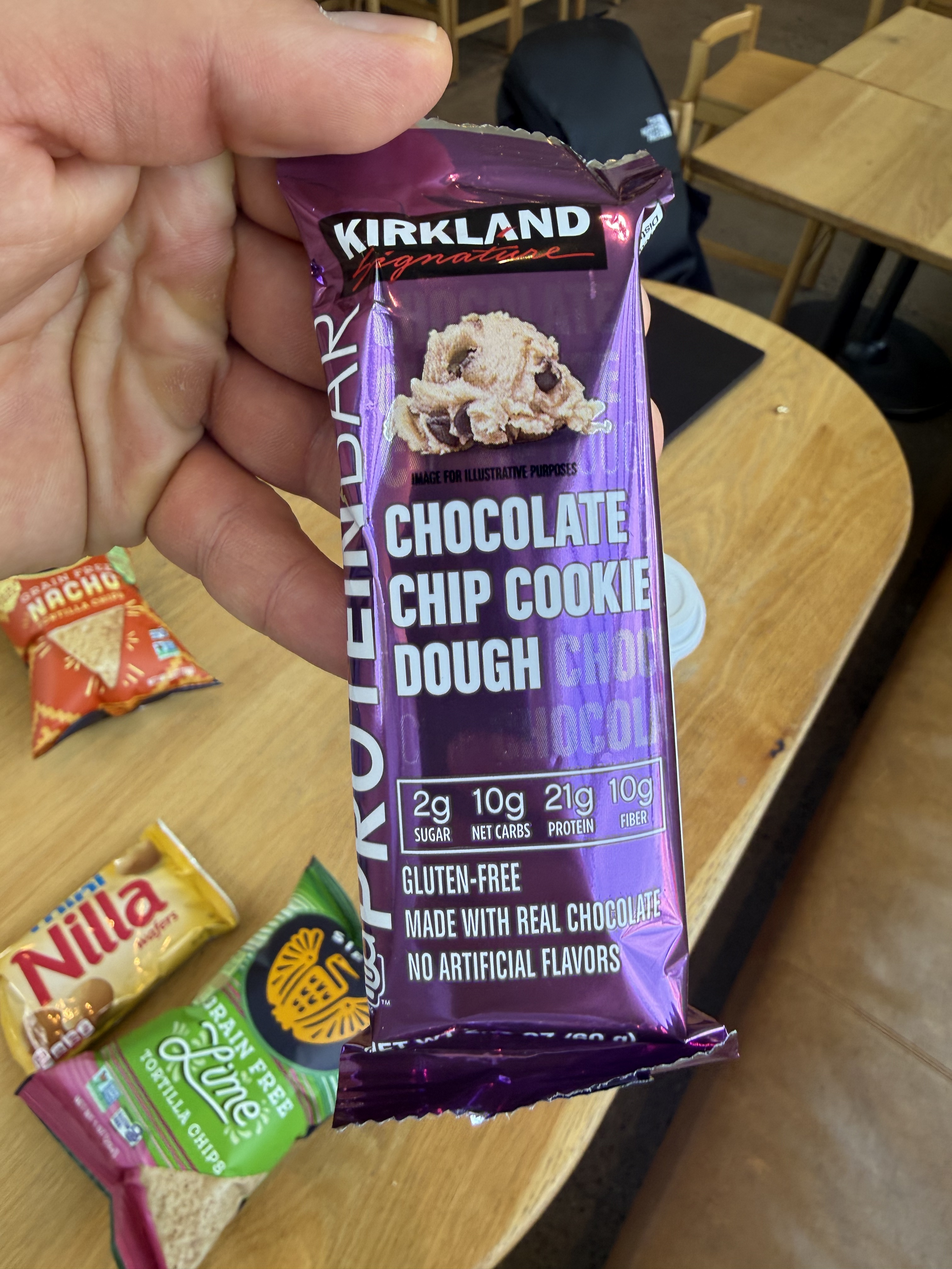chocolate_chip_cookie_dough: (317, 137, 682, 1109)
